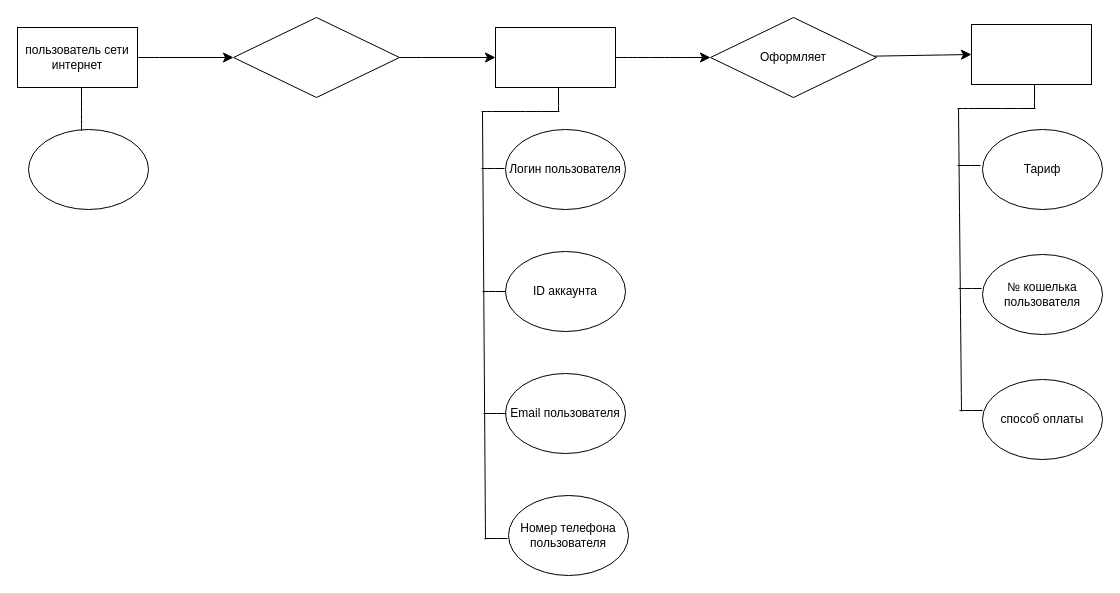
Some shapes in this 1120 by 593 pixel diagram are drawn without their labels. The centre of each missing label's shape, as x and y in pixels:
аккаунт пользователя: point (88, 169)
Подписка: point (1031, 54)
Приложение: point (555, 57)
Скачивает: point (316, 57)
